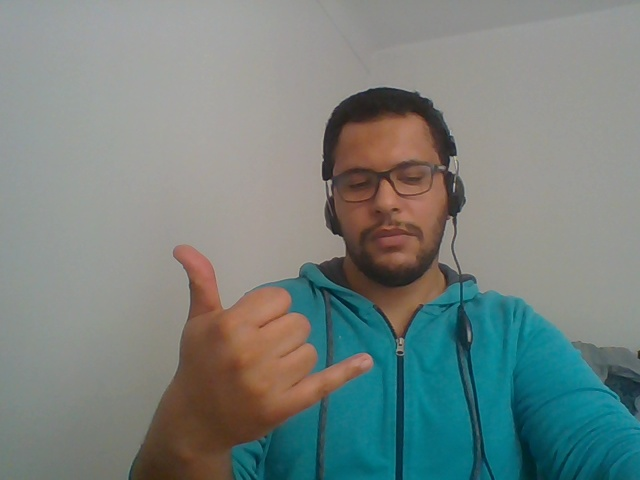callme: (142, 212, 382, 472)
